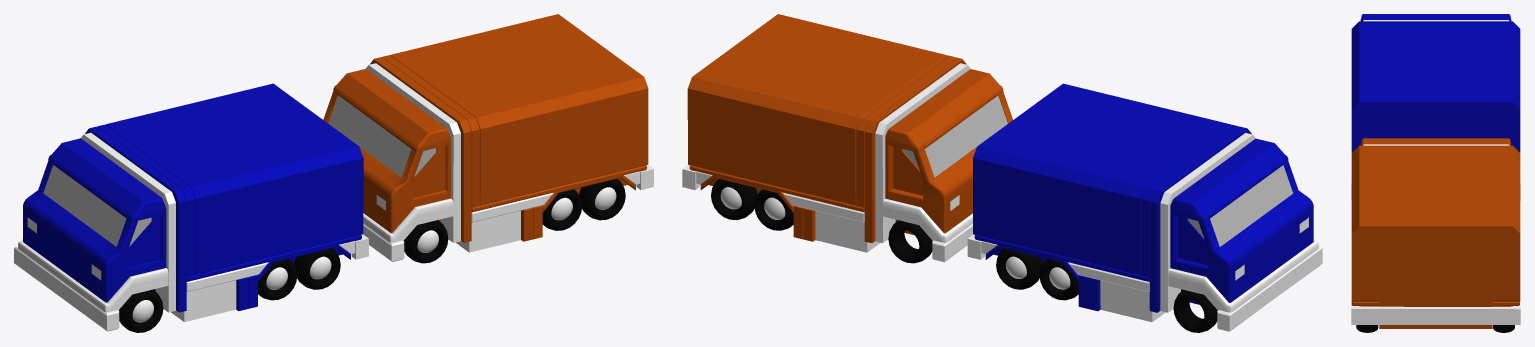
The model's file is caminhao1.fbx.
The picture shows the model from 3 angles, left to right: view 1: azimuth 30°, elevation 25°; view 2: azimuth 150°, elevation 25°; view 3: azimuth 270°, elevation 25°; orthographic projection. The views are drawn at different scales.
Visible parts, largest first — view 1: azul, azul.001; view 2: azul, azul.001; view 3: azul.001, azul.
Boxes of the visible parts, <box> form: azul: <box>14,83,368,332</box>; azul.001: <box>323,14,653,263</box>; azul: <box>967,83,1322,332</box>; azul.001: <box>682,14,1012,263</box>; azul.001: <box>1351,138,1520,332</box>; azul: <box>1351,14,1520,200</box>.
Size of what is drawn, in the model's own units: 1724 by 410 by 519.
